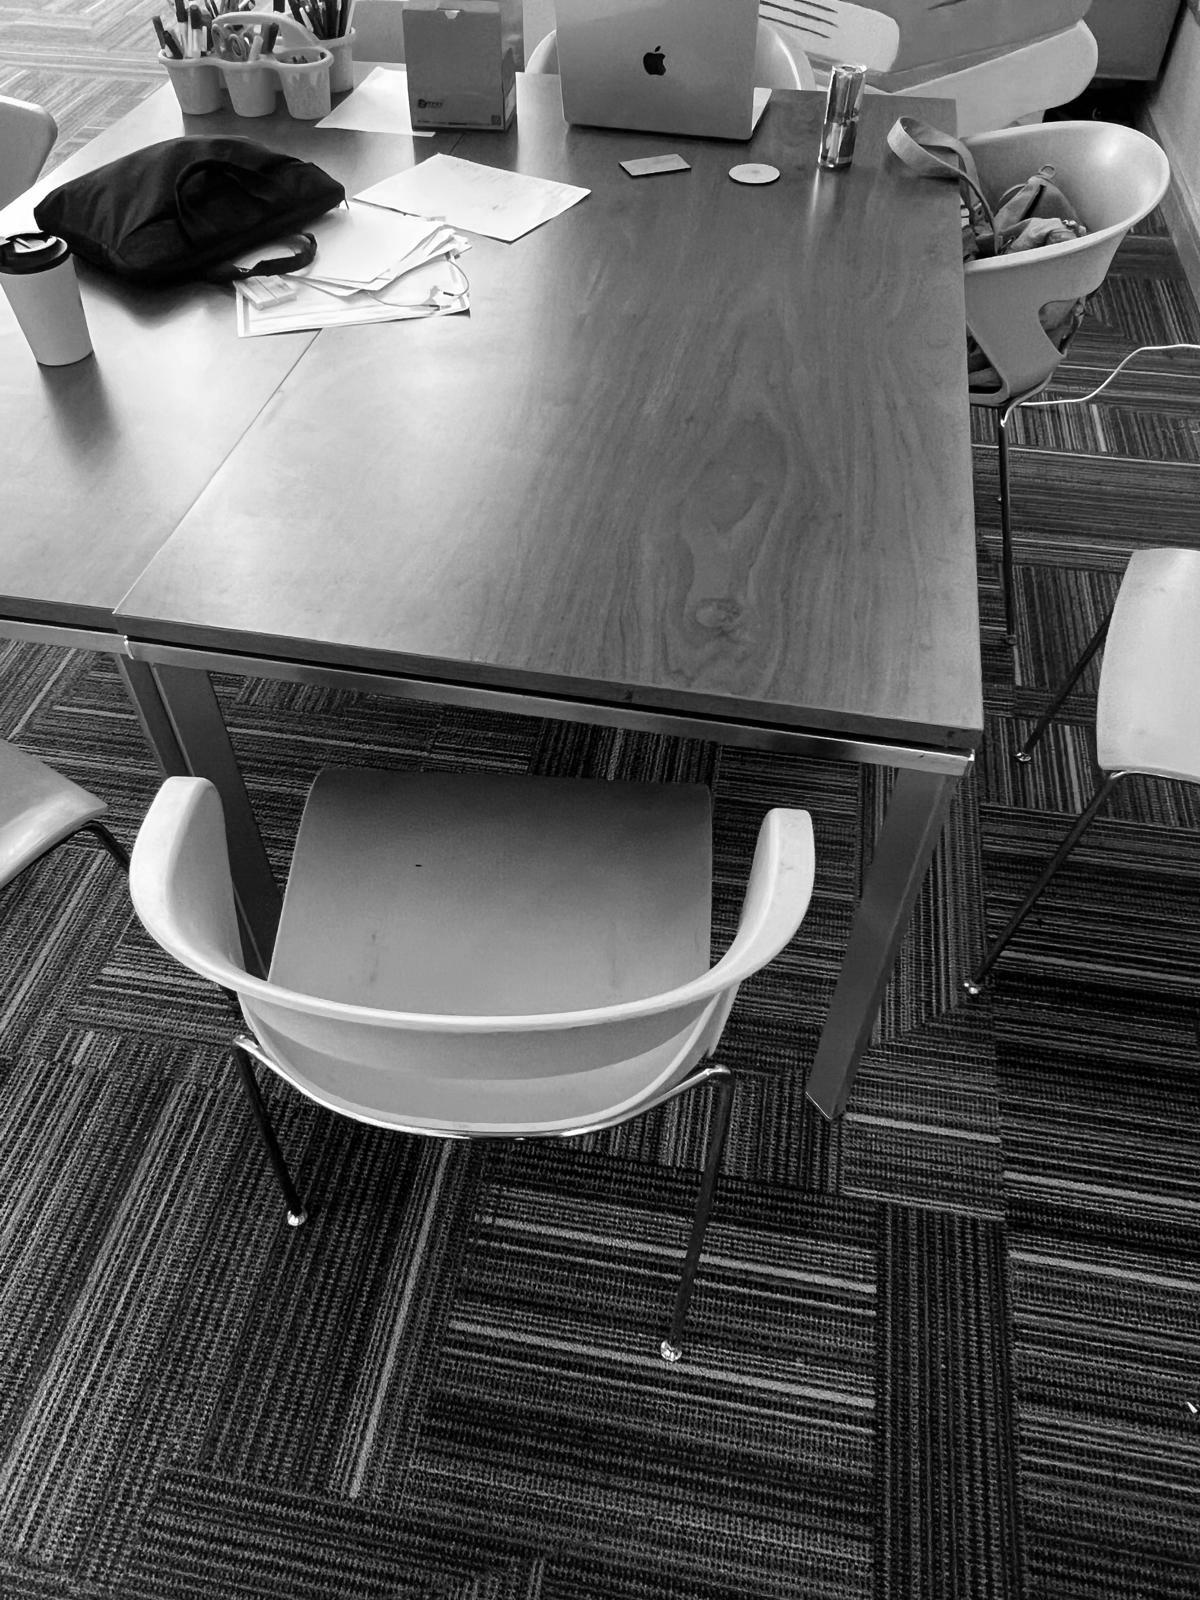Chair: (130, 770, 816, 1357), (892, 118, 1168, 632), (1089, 551, 1199, 811)
Table: (0, 76, 982, 1116)
chair: (966, 122, 1168, 346)
